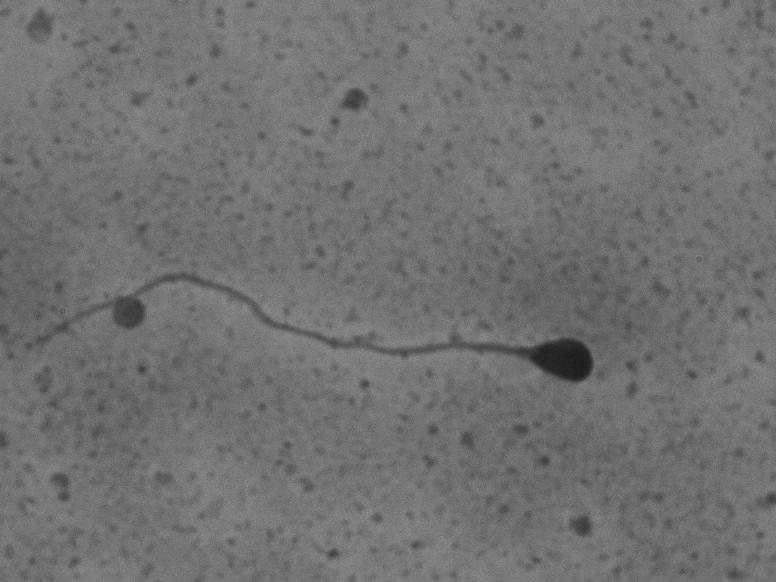Abnormal: (21, 220, 609, 435)
